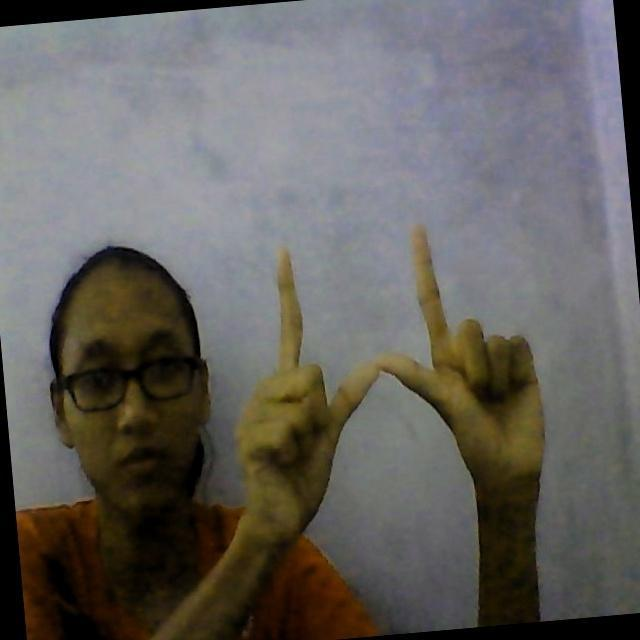W: (233, 219, 559, 518)
